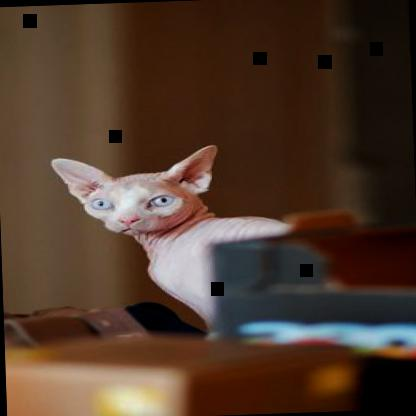cat: (52, 142, 296, 340)
